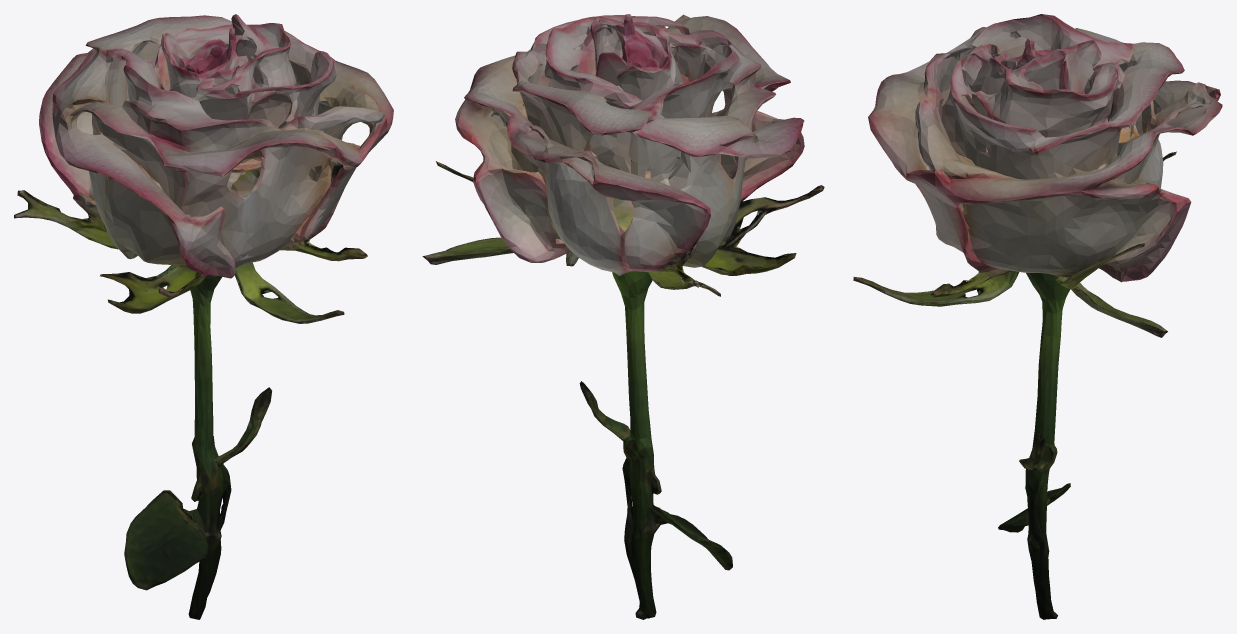
3 renders of one model, left to right at view 1: azimuth 30°, elevation 25°; view 2: azimuth 150°, elevation 25°; view 3: azimuth 270°, elevation 25°, orthographic.
Visible parts, largest first — view 1: world; view 2: world; view 3: world.
Part boxes in pixels (box(x1,y1,x2,y2)): world: box(14, 14, 393, 619); world: box(422, 14, 824, 619); world: box(853, 14, 1222, 619).
Bounding box in the file's own units: 0.5257 × 0.9634 × 0.5427.
Materials: 1 (1 with a texture image).
